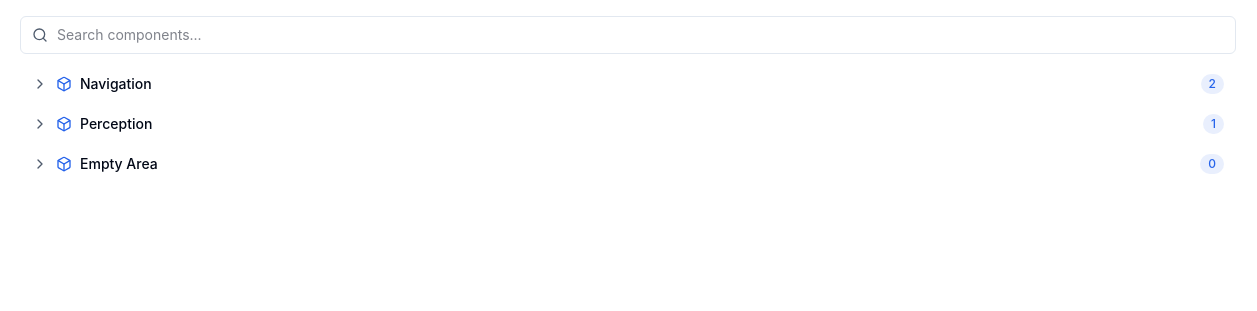
Test: ComponentTree › displays components with correct status indicators
Click the list item with aria-label "navigation area": (116,84) top-left (20, 66), bottom-right (1236, 102)
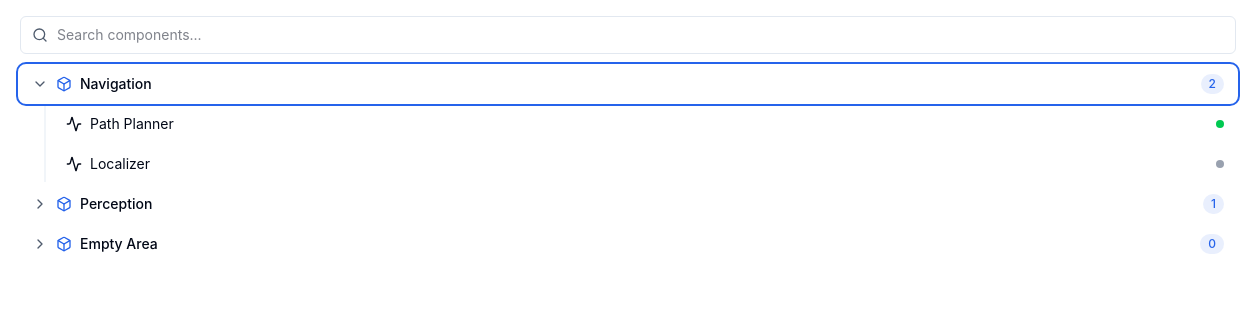
Expected: the element named "Active" is shown, top-left (1216, 120), bottom-right (1224, 128)
Expected: the element named "Inactive" is shown, top-left (1216, 160), bottom-right (1224, 168)
Click the list item with aria-label "perception area": (116,204) top-left (20, 186), bottom-right (1236, 222)
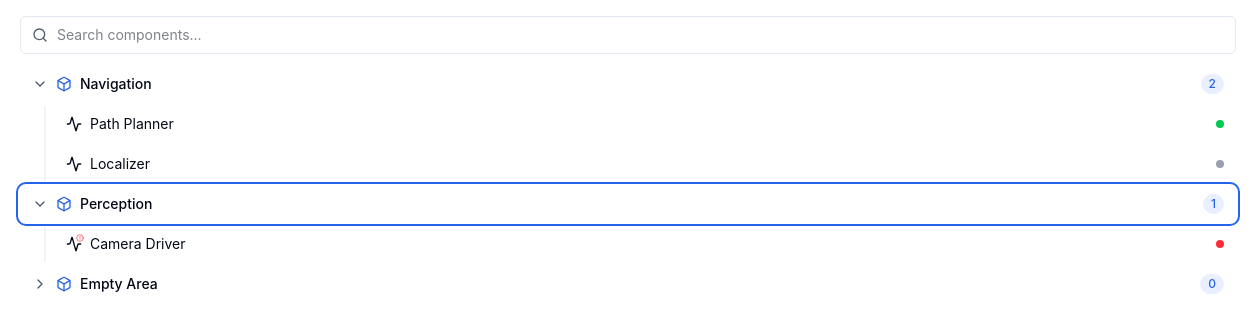
Expected: the element named "Error" is shown, top-left (1216, 240), bottom-right (1224, 248)
